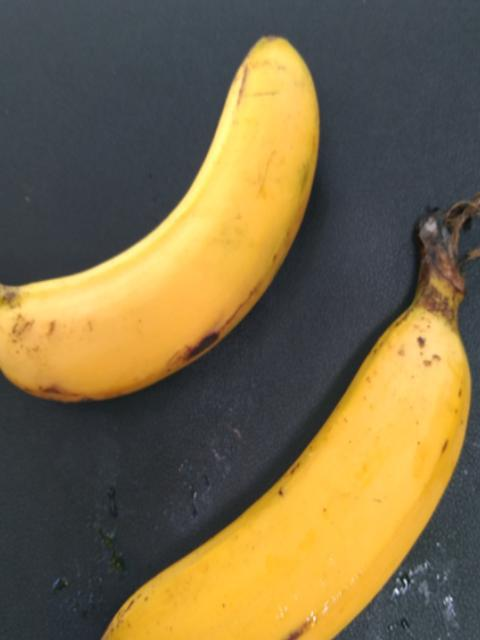freshripe: (0, 26, 344, 444), (86, 313, 466, 639)
